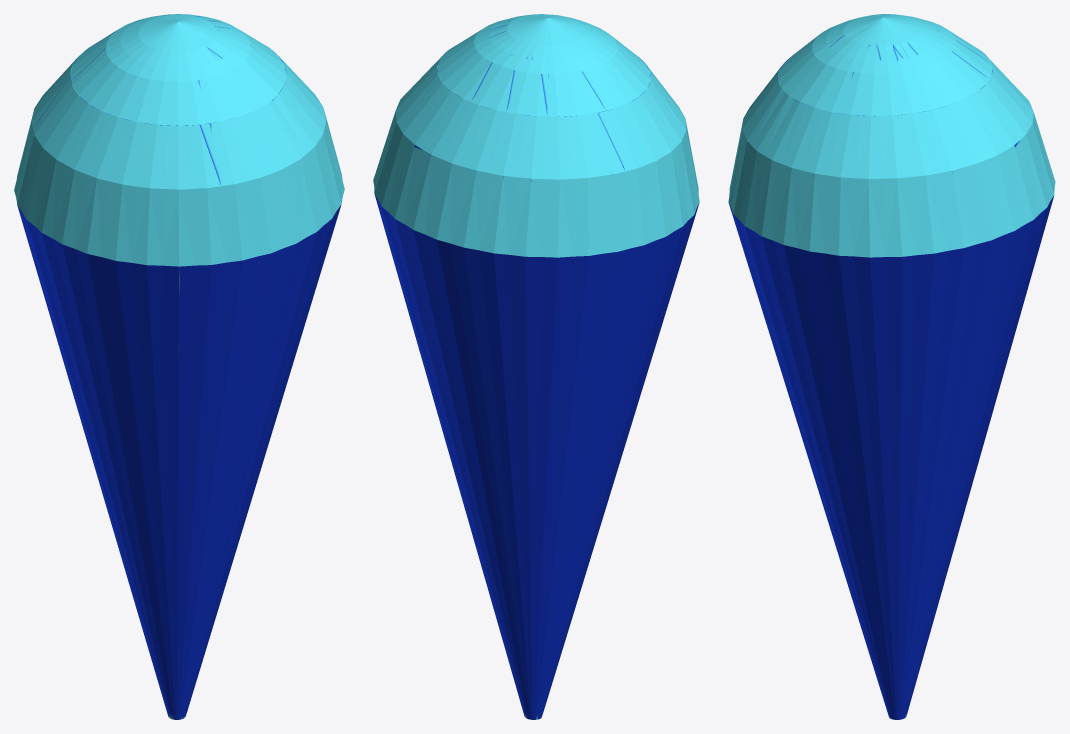
The model's file is laserbullet.obj.
3 renders of one model, left to right at view 1: azimuth 30°, elevation 25°; view 2: azimuth 150°, elevation 25°; view 3: azimuth 270°, elevation 25°, orthographic.
Parts seen in each view (by area): view 1: laserbullet; view 2: laserbullet; view 3: laserbullet.
Boxes of the visible parts, bbox=[...] form: laserbullet: bbox=[14, 14, 344, 719]; laserbullet: bbox=[373, 14, 699, 719]; laserbullet: bbox=[728, 14, 1055, 719].
Bounding box in the file's own units: 0.3237 × 0.7593 × 0.3236.
